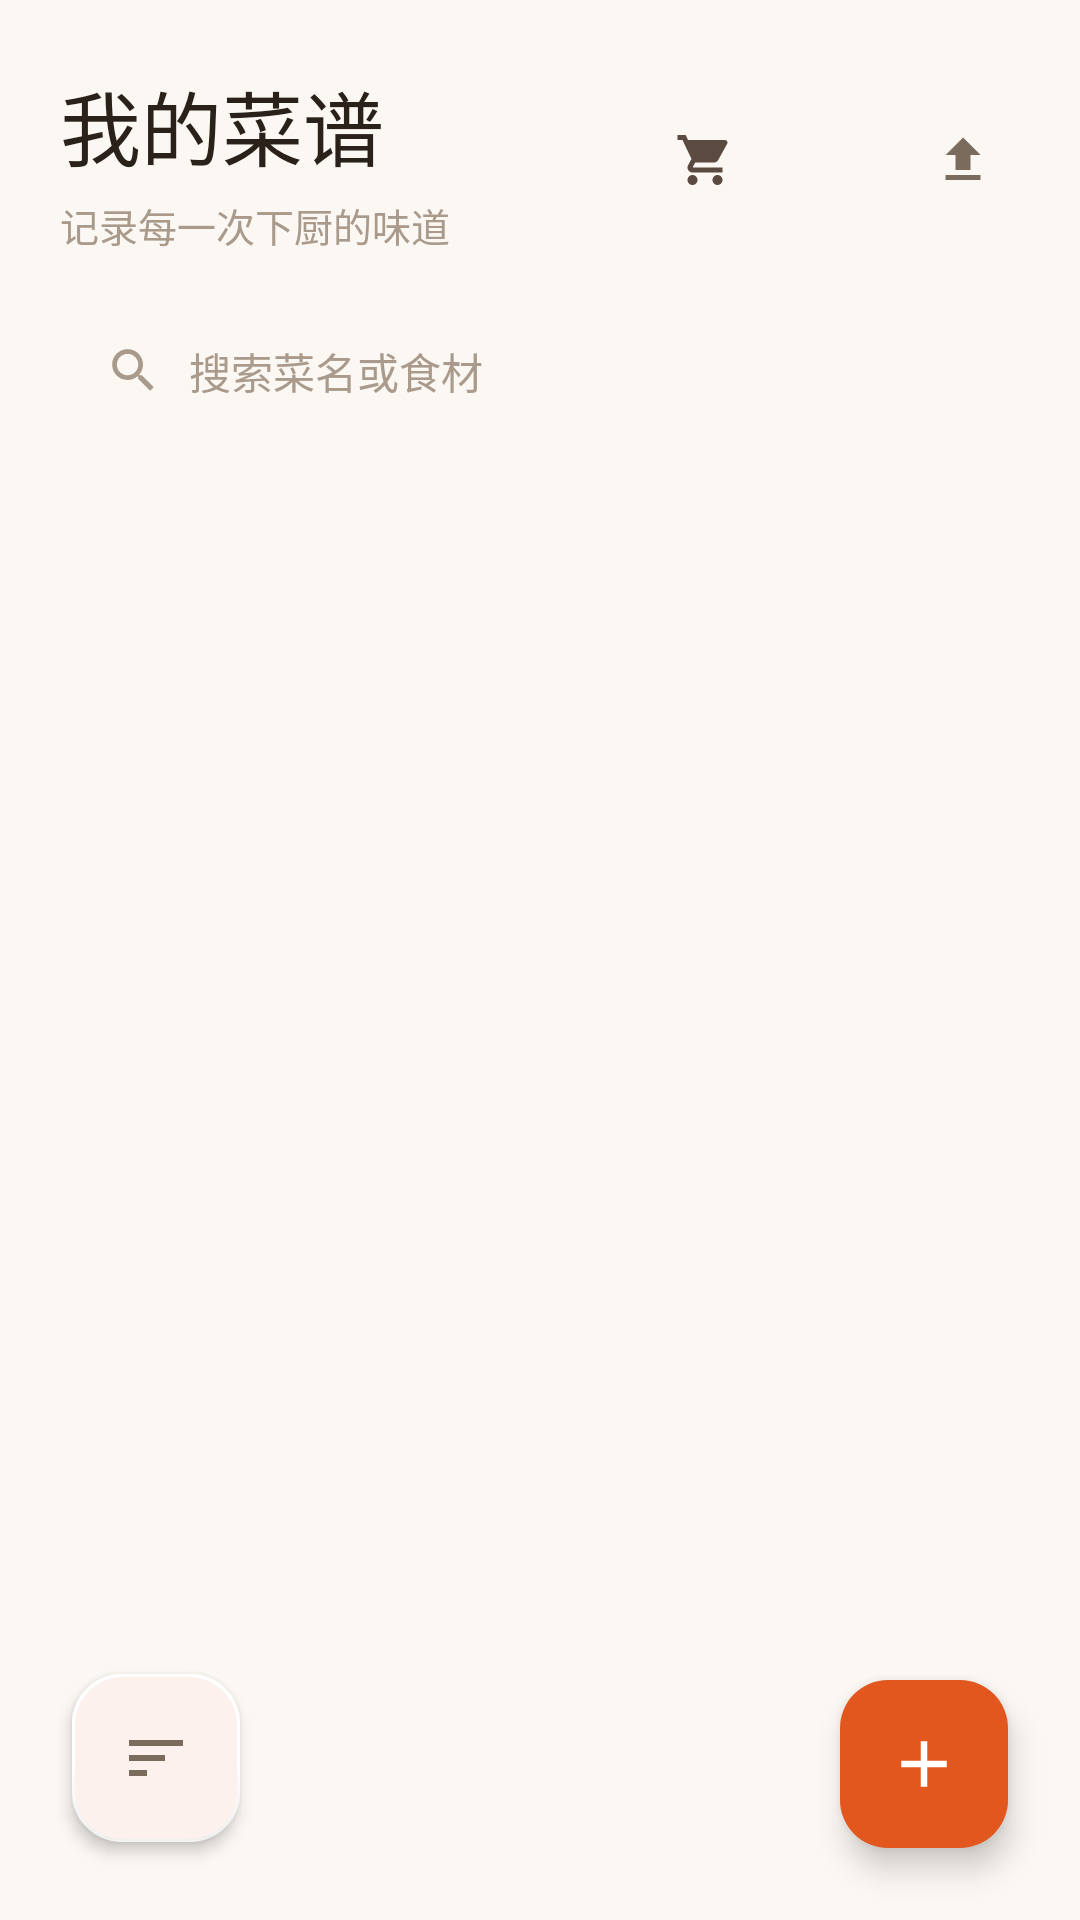

Icon bounding boxes for this 1080px×1920px phone screenshot, format (x1, y1, x2, y2):
买菜清单: (677, 135, 728, 185)
导出: (945, 137, 981, 180)
排序方式: (129, 1740, 183, 1776)
新建菜谱: (840, 1680, 1008, 1848)
